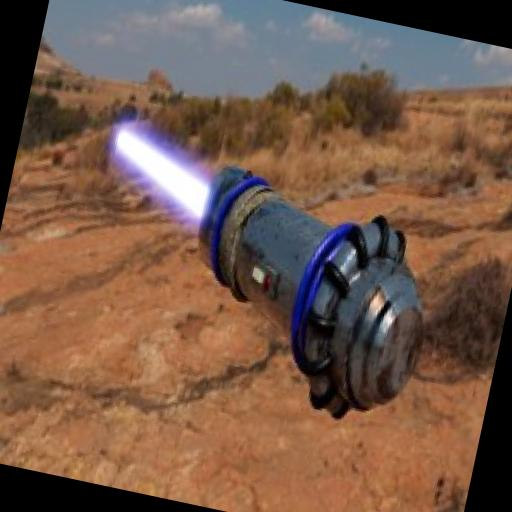lightsaber: (65, 124, 466, 440)
